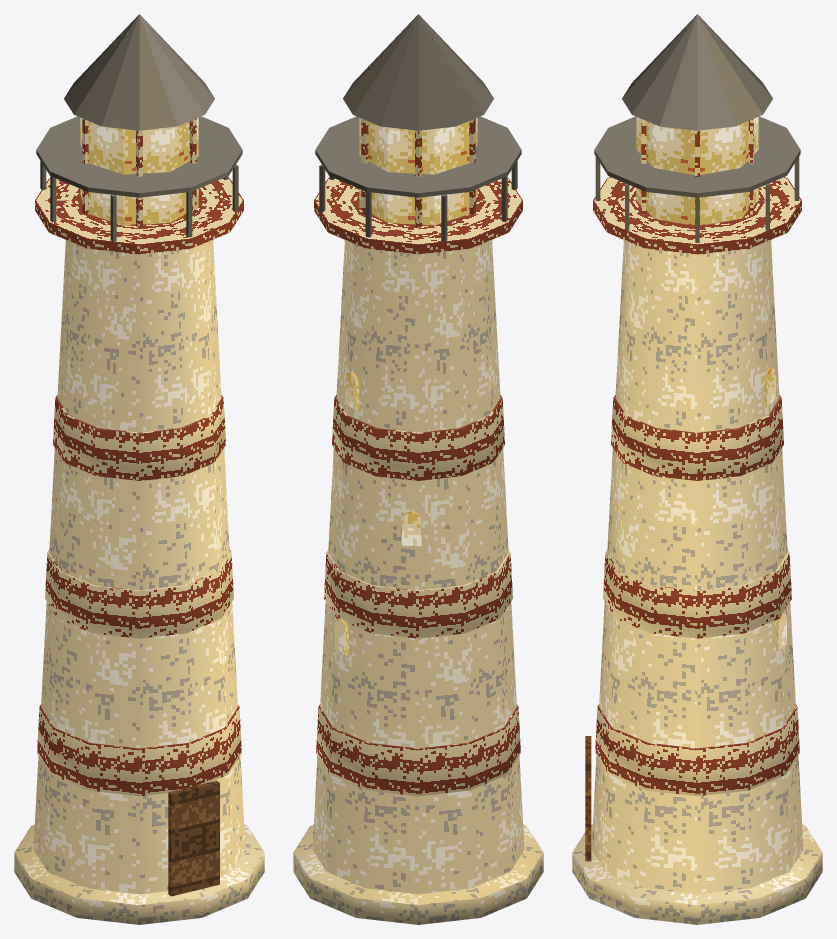
File: arch.tower.glb
3 views of the same model, side by side, from view 1: azimuth 30°, elevation 25°; view 2: azimuth 150°, elevation 25°; view 3: azimuth 270°, elevation 25° (orthographic).
Parts seen in each view (by area): view 1: kit_tower_body, kit_tower_detail, kit_tower_glow; view 2: kit_tower_body, kit_tower_detail, kit_tower_glow; view 3: kit_tower_body, kit_tower_detail, kit_tower_glow.
Part boxes in pixels (left/top/right/bottom): kit_tower_body: left=14, top=240, right=264, bottom=924; kit_tower_detail: left=35, top=14, right=243, bottom=896; kit_tower_glow: left=80, top=117, right=198, bottom=225; kit_tower_body: left=293, top=240, right=543, bottom=924; kit_tower_detail: left=314, top=14, right=522, bottom=796; kit_tower_glow: left=334, top=117, right=477, bottom=655; kit_tower_body: left=572, top=240, right=822, bottom=924; kit_tower_detail: left=585, top=14, right=801, bottom=861; kit_tower_glow: left=636, top=117, right=786, bottom=650.
Bounding box in the file's own units: 4.01 × 15.18 × 4.01.
Materials: 5 (4 with a texture image).
